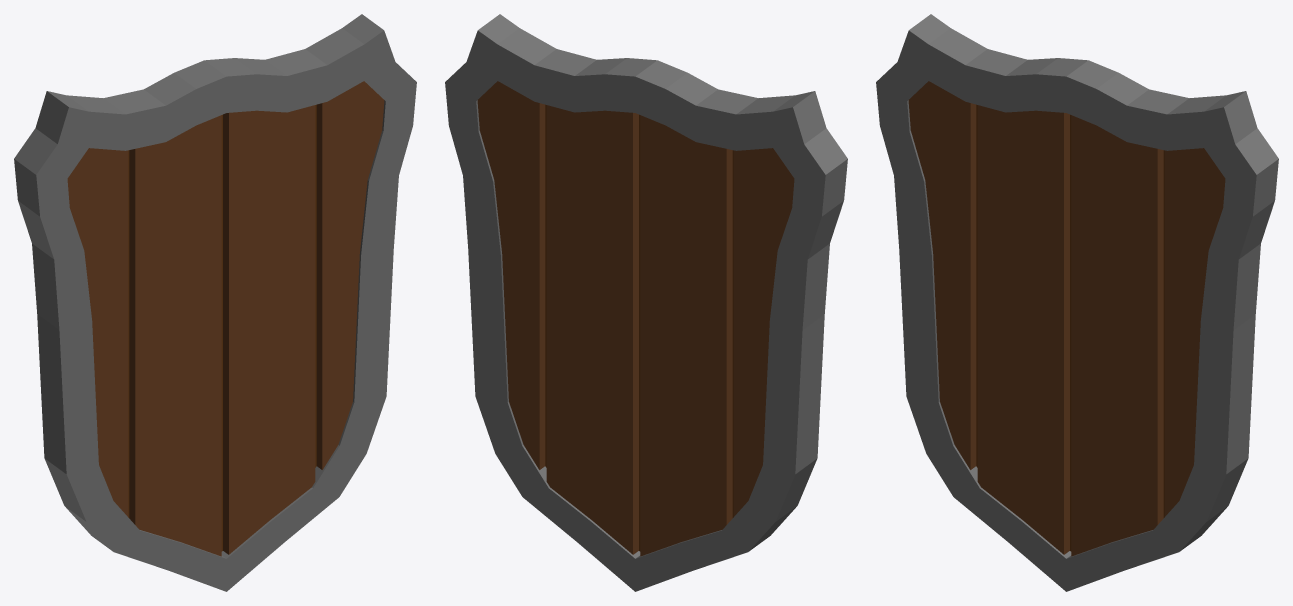
The model's file is Shield.fbx.
3 renders of one model, left to right at view 1: azimuth 30°, elevation 25°; view 2: azimuth 150°, elevation 25°; view 3: azimuth 330°, elevation 25°, orthographic.
Visible parts, largest first — view 1: Cube.004; view 2: Cube.004; view 3: Cube.004.
Boxes of the visible parts, left/top/right/bottom form: Cube.004: left=14, top=14, right=416, bottom=591; Cube.004: left=445, top=14, right=847, bottom=591; Cube.004: left=876, top=14, right=1278, bottom=591.
Bounding box in the file's own units: 1.84 × 0.1863 × 2.41.
